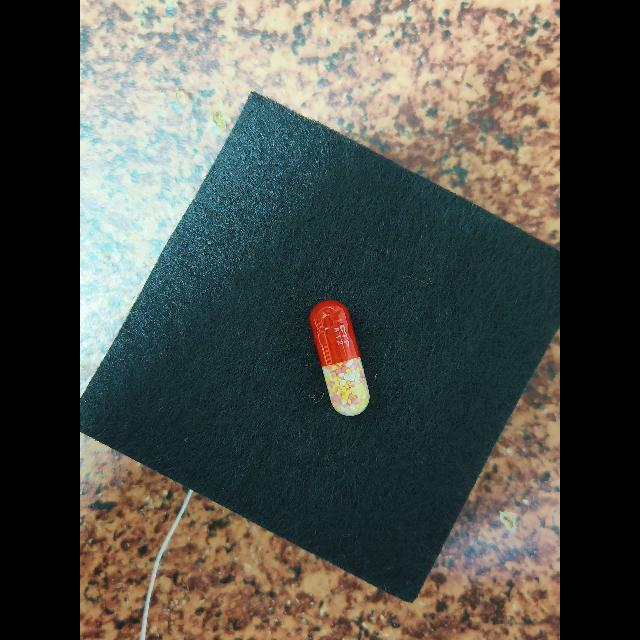Intact Capsule: (310, 300, 369, 416)
